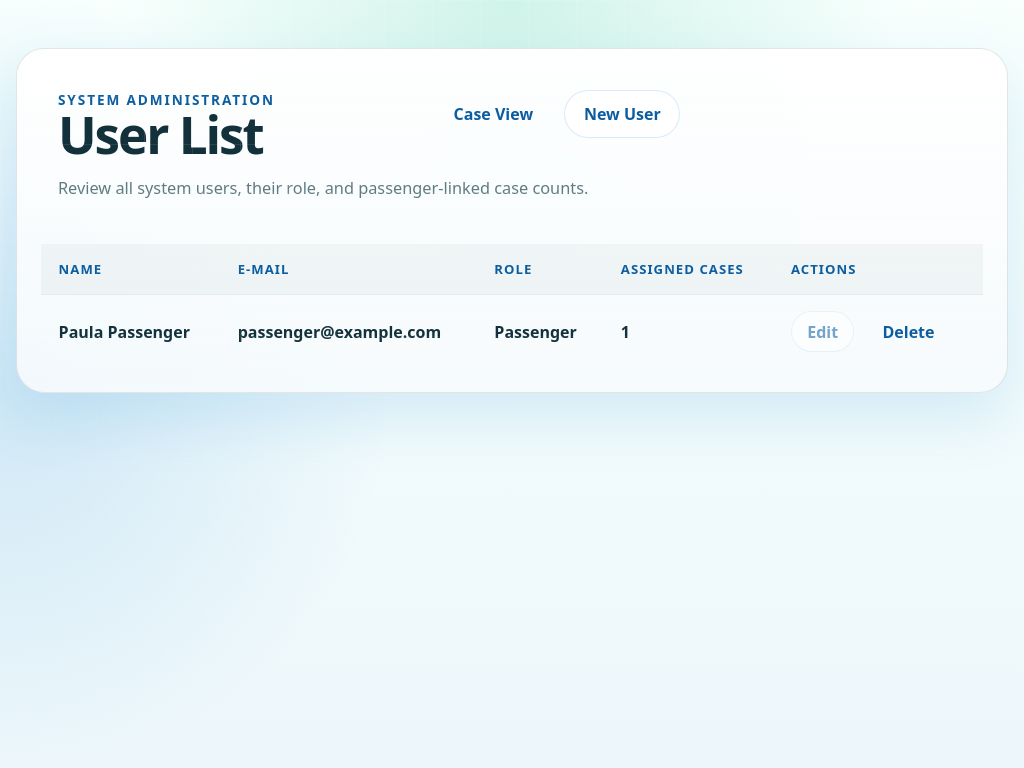
Scenario: UserListPage › deletes a user and shows a confirmation message
Click the button with aria-label "delete passenger@example.com" at [908, 332], box [866, 311, 951, 352]
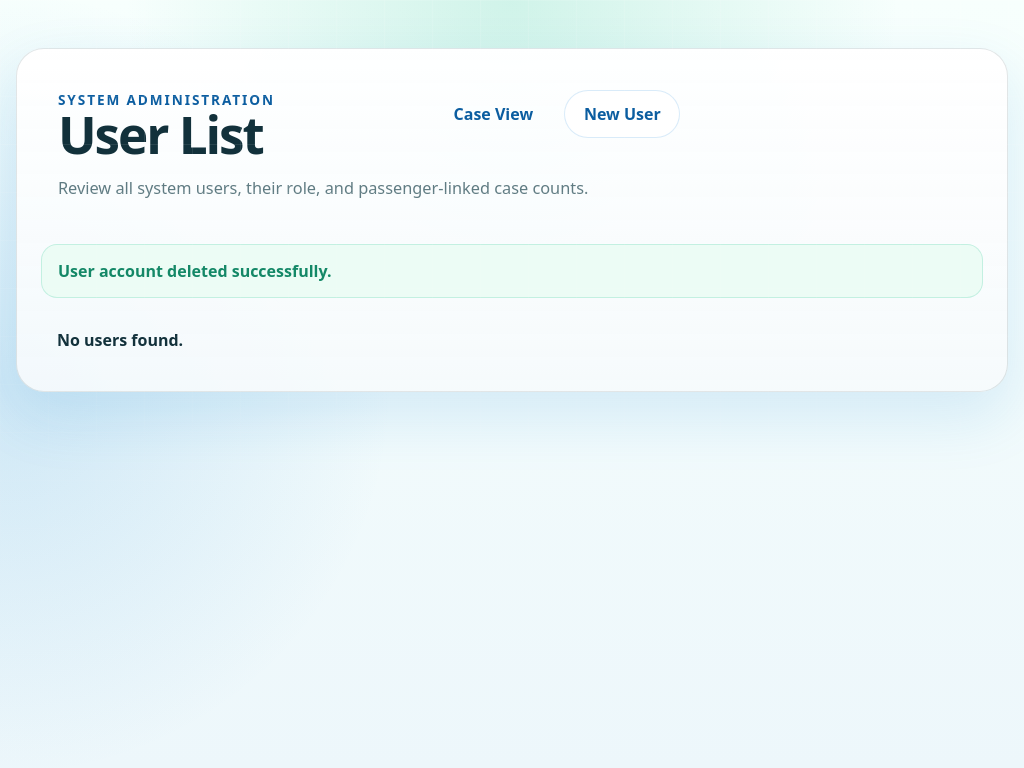
Now the text "User account deleted successfully." is shown, box [41, 244, 983, 298]
Now the text "No users found." is shown, box [57, 329, 183, 351]
